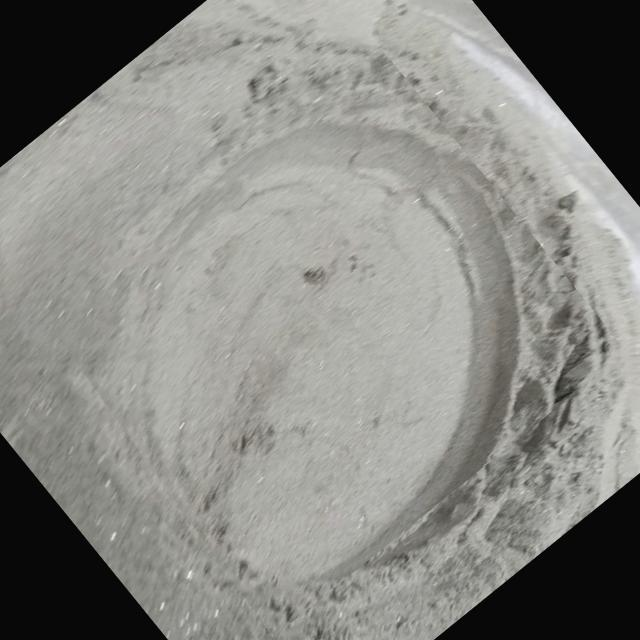C40: (91, 128, 517, 577)
